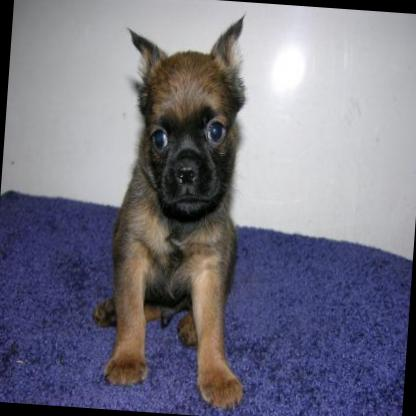Brabancon_griffon: (86, 6, 271, 408)
